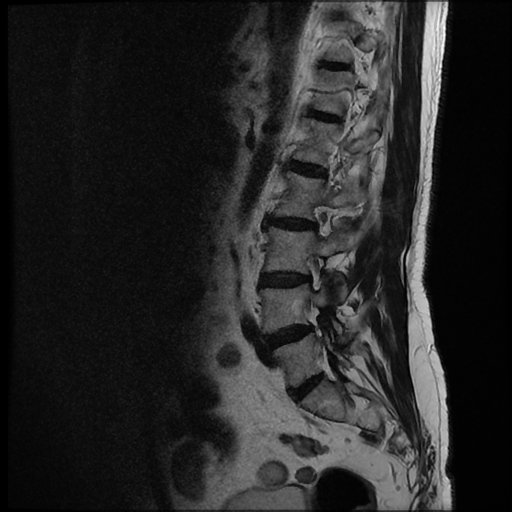LFS0: (295, 246, 336, 295)
